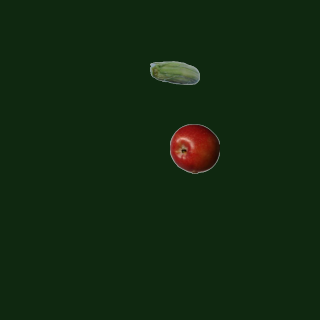Apple Braeburn: (169, 123, 219, 173)
Corn Husk: (149, 49, 199, 99)
